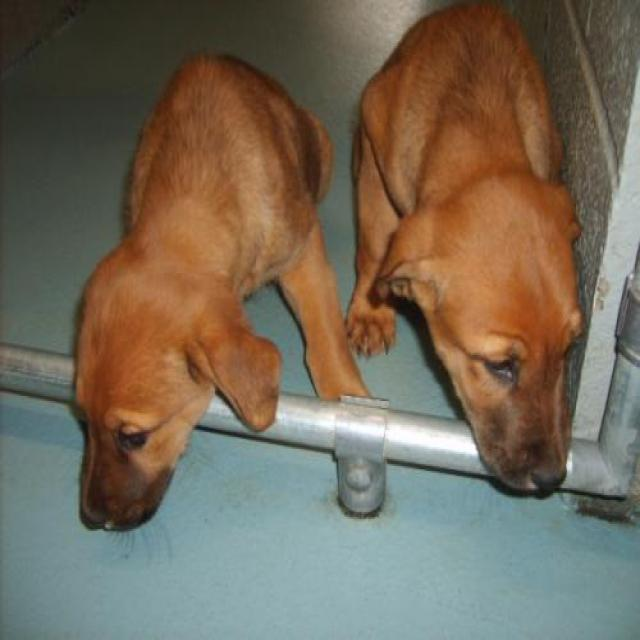Dogs: (69, 49, 373, 536), (343, 0, 587, 498)
